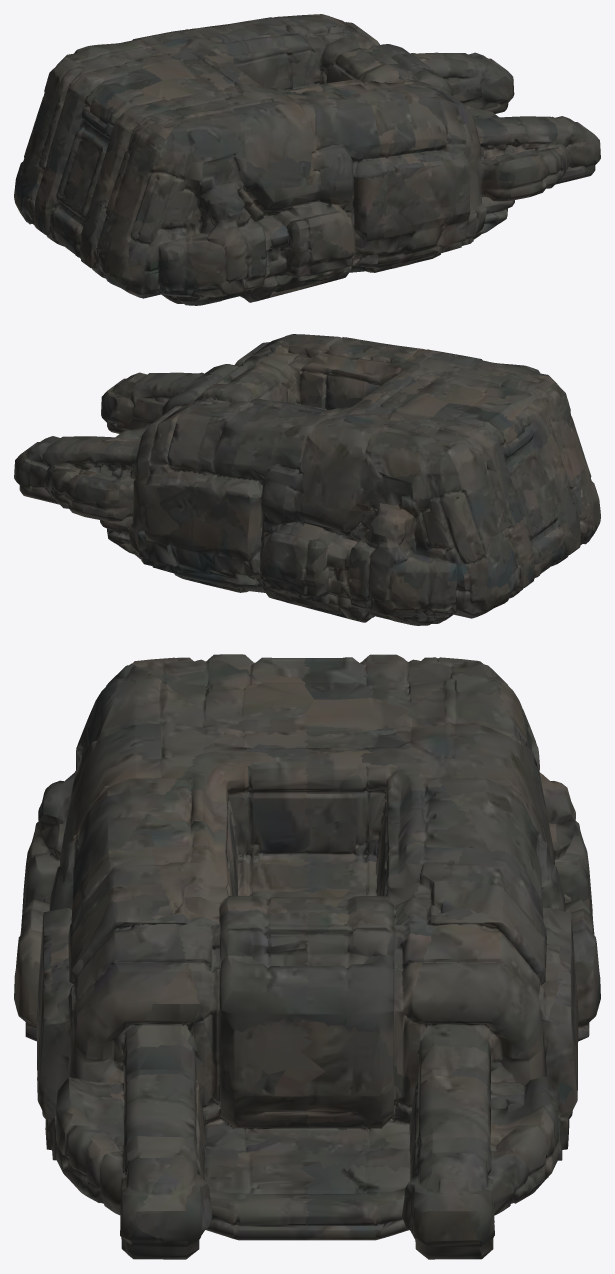
The model's file is arc-mason-lean.glb.
3 views of the same model, one above another, from view 1: azimuth 30°, elevation 25°; view 2: azimuth 150°, elevation 25°; view 3: azimuth 270°, elevation 25° (orthographic). The views are drawn at different scales.
Visible parts, largest first — view 1: chassis; view 2: chassis; view 3: chassis.
Boxes of the visible parts, <box> form: chassis: <box>14,14,600,305</box>; chassis: <box>14,334,600,625</box>; chassis: <box>14,654,600,1259</box>.
Size of the model in its own units: 0.9899 by 0.3609 by 0.6109.
Materials: 1 (1 with a texture image).
